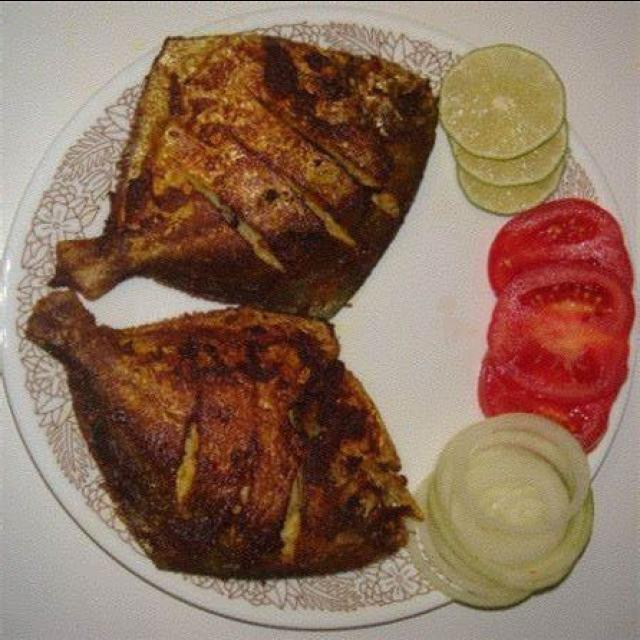ikan bakar: (23, 284, 418, 582), (49, 32, 436, 320)
